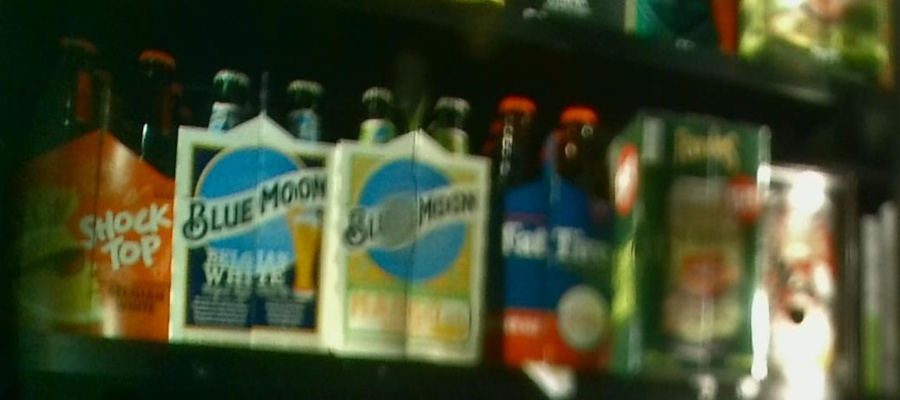bottle: (4, 34, 171, 344), (607, 110, 771, 383), (172, 69, 333, 346), (331, 85, 486, 361), (485, 99, 606, 367)
